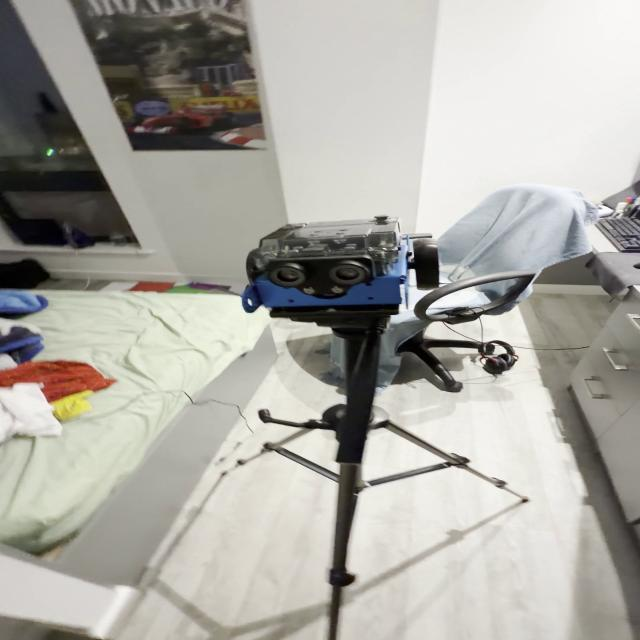mbot-detection: (232, 211, 449, 317)
